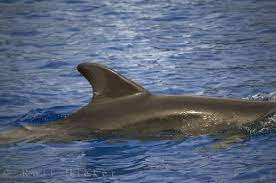fin: (8, 50, 276, 158)
